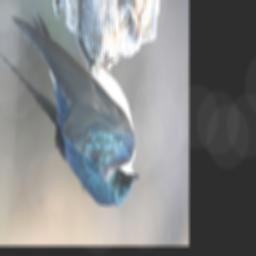Swallow: (0, 13, 139, 208)
